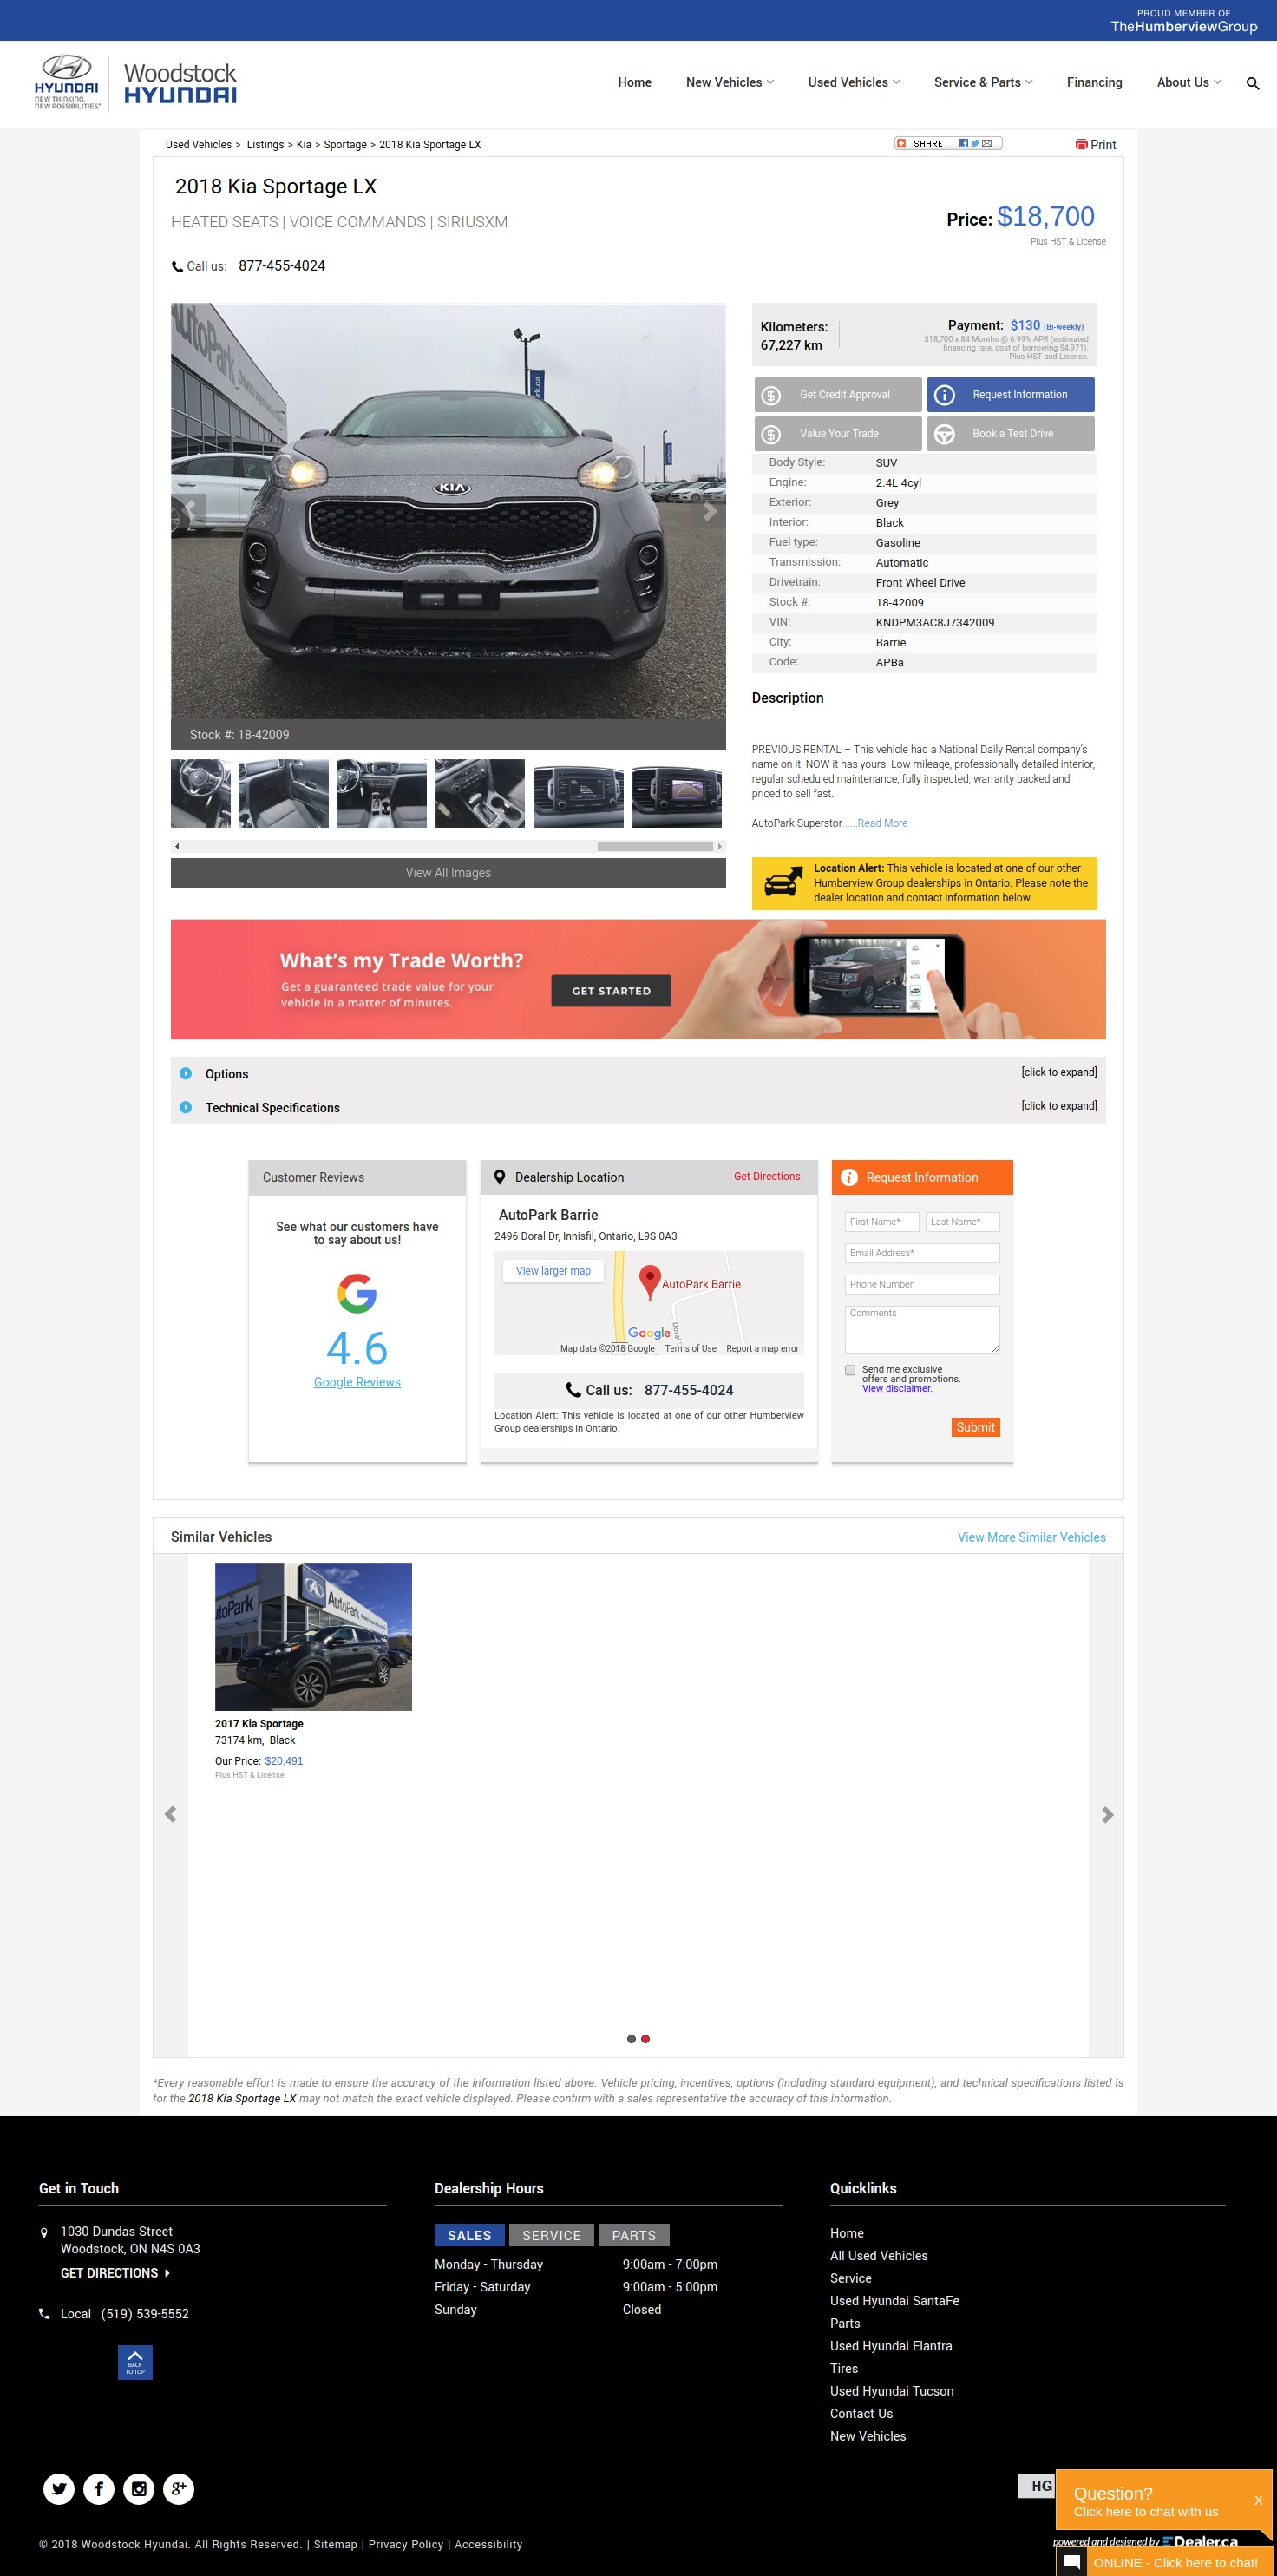car: (718, 843, 723, 851)
